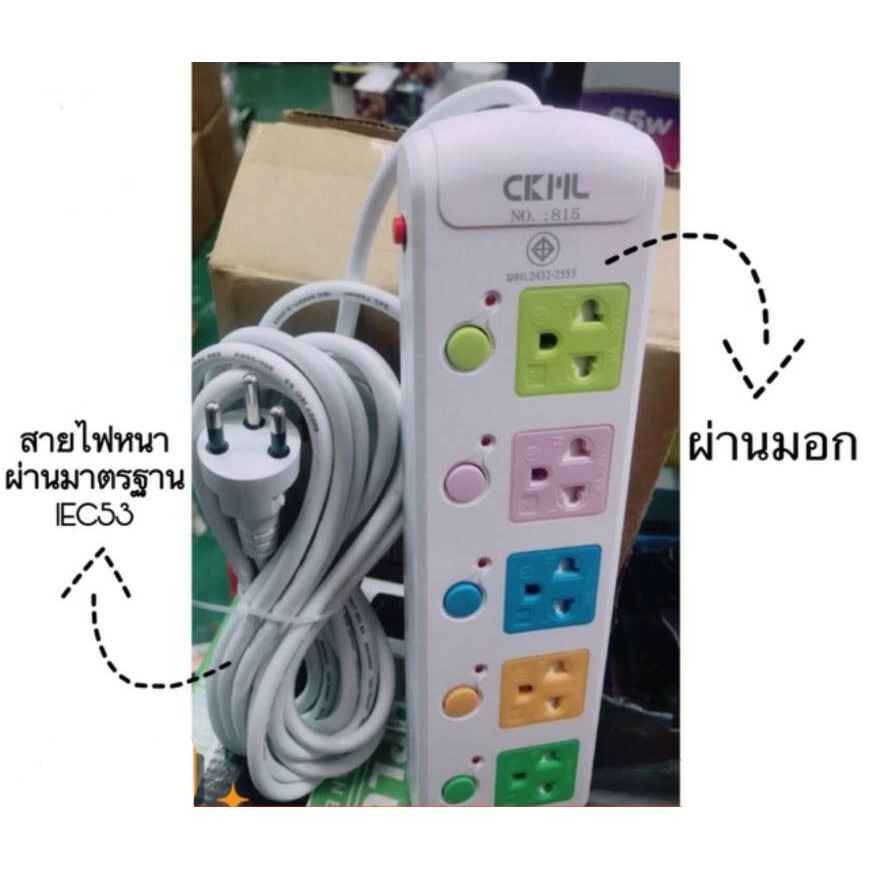Three_eye_plug: (379, 82, 669, 804)
